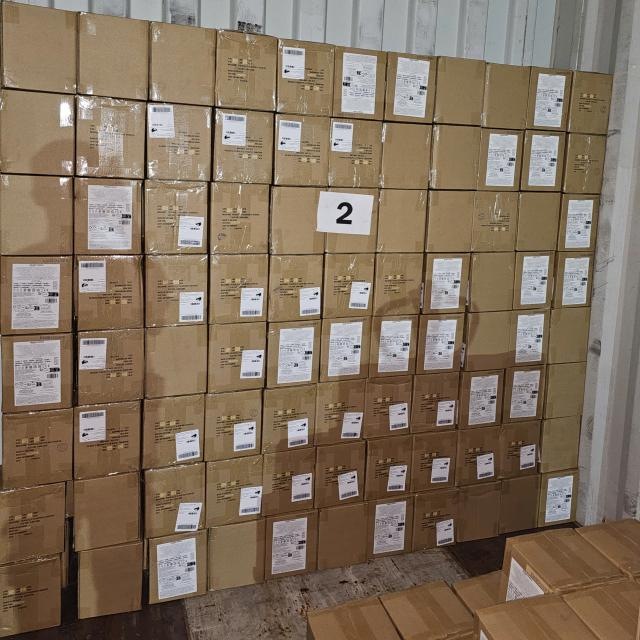Carton: (2, 2, 80, 94), (0, 88, 75, 177), (76, 13, 148, 102), (0, 173, 73, 256), (74, 98, 146, 182), (0, 255, 73, 336), (1, 334, 74, 412), (152, 22, 219, 106), (71, 180, 143, 258), (4, 408, 76, 485), (73, 403, 142, 482), (74, 473, 144, 550), (76, 539, 144, 618), (74, 253, 143, 330), (0, 487, 67, 566), (78, 329, 148, 404), (148, 102, 214, 181), (0, 555, 64, 635), (216, 32, 276, 115), (143, 182, 208, 258), (466, 311, 548, 370), (147, 252, 211, 326), (144, 327, 208, 401), (141, 392, 204, 467), (211, 106, 272, 182), (148, 462, 209, 535), (277, 39, 334, 116), (210, 184, 270, 257), (208, 251, 268, 323), (151, 532, 211, 604), (207, 521, 264, 593), (204, 458, 262, 528), (202, 392, 261, 460), (207, 321, 264, 391), (276, 116, 330, 188), (330, 120, 385, 190), (266, 254, 322, 322), (268, 185, 322, 255), (266, 319, 320, 387), (336, 47, 386, 120), (321, 505, 376, 571), (326, 187, 379, 255), (262, 385, 316, 451), (266, 512, 319, 579), (262, 452, 316, 516), (438, 56, 487, 126), (386, 54, 436, 122), (380, 122, 430, 190), (322, 317, 373, 383), (324, 252, 375, 318), (318, 380, 368, 446), (433, 125, 483, 191), (318, 444, 368, 509), (377, 188, 426, 254), (373, 252, 422, 315), (426, 190, 474, 254), (368, 315, 416, 377), (486, 63, 529, 130), (417, 314, 465, 374), (424, 252, 470, 314), (364, 434, 410, 496), (362, 379, 410, 438), (411, 372, 459, 431), (480, 128, 524, 192), (412, 433, 458, 494), (524, 133, 568, 196), (475, 189, 518, 252), (471, 252, 516, 312), (461, 372, 506, 431), (520, 192, 563, 252), (413, 492, 456, 552), (531, 72, 572, 134), (570, 74, 610, 137), (566, 134, 606, 195), (460, 484, 502, 542), (544, 364, 587, 420), (459, 431, 502, 487), (518, 252, 558, 312), (550, 310, 591, 367), (560, 194, 600, 252), (371, 496, 411, 554), (500, 474, 539, 533), (503, 369, 543, 424), (541, 416, 581, 470), (499, 421, 539, 475), (515, 311, 552, 369), (556, 252, 592, 308), (541, 472, 577, 528)
